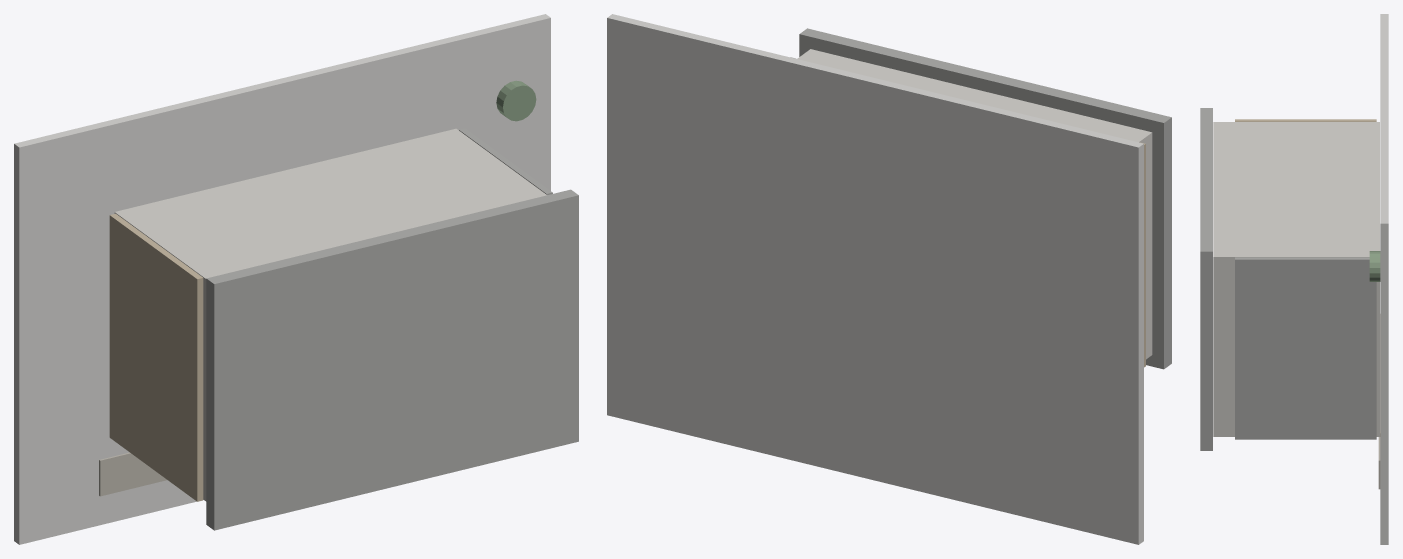
The model's file is modular-studio.glb.
3 views of the same model, side by side, from view 1: azimuth 30°, elevation 25°; view 2: azimuth 150°, elevation 25°; view 3: azimuth 270°, elevation 25° (orthographic). The views are drawn at different scales.
Parts seen in each view (by area): view 1: roof, site_base, studio_volume, left_cladding, patio, shrub; view 2: site_base, roof, studio_volume; view 3: studio_volume, right_concrete, site_base, roof, left_cladding, shrub, patio.
Part boxes in pixels (box(x1,y1,x2,y2)): roof: box(206, 189, 578, 530); site_base: box(14, 14, 550, 544); studio_volume: box(114, 128, 546, 501); left_cladding: box(109, 213, 203, 501); patio: box(99, 452, 166, 496); shrub: box(496, 80, 536, 121); site_base: box(607, 14, 1143, 544); roof: box(799, 28, 1171, 369); studio_volume: box(797, 49, 1152, 359); studio_volume: box(1213, 122, 1379, 436); right_concrete: box(1235, 257, 1376, 439); site_base: box(1380, 14, 1388, 544); roof: box(1200, 108, 1212, 450); left_cladding: box(1235, 119, 1376, 121); shrub: box(1369, 251, 1380, 281); patio: box(1378, 314, 1380, 489).
Size of the model in its own units: 7 by 5 by 2.66.
